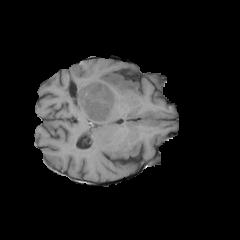glioma: (62, 67, 138, 123)
